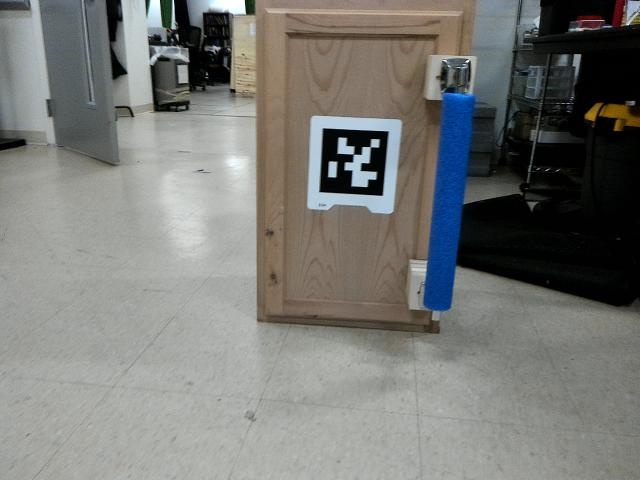noodle_handle: (419, 79, 475, 314)
